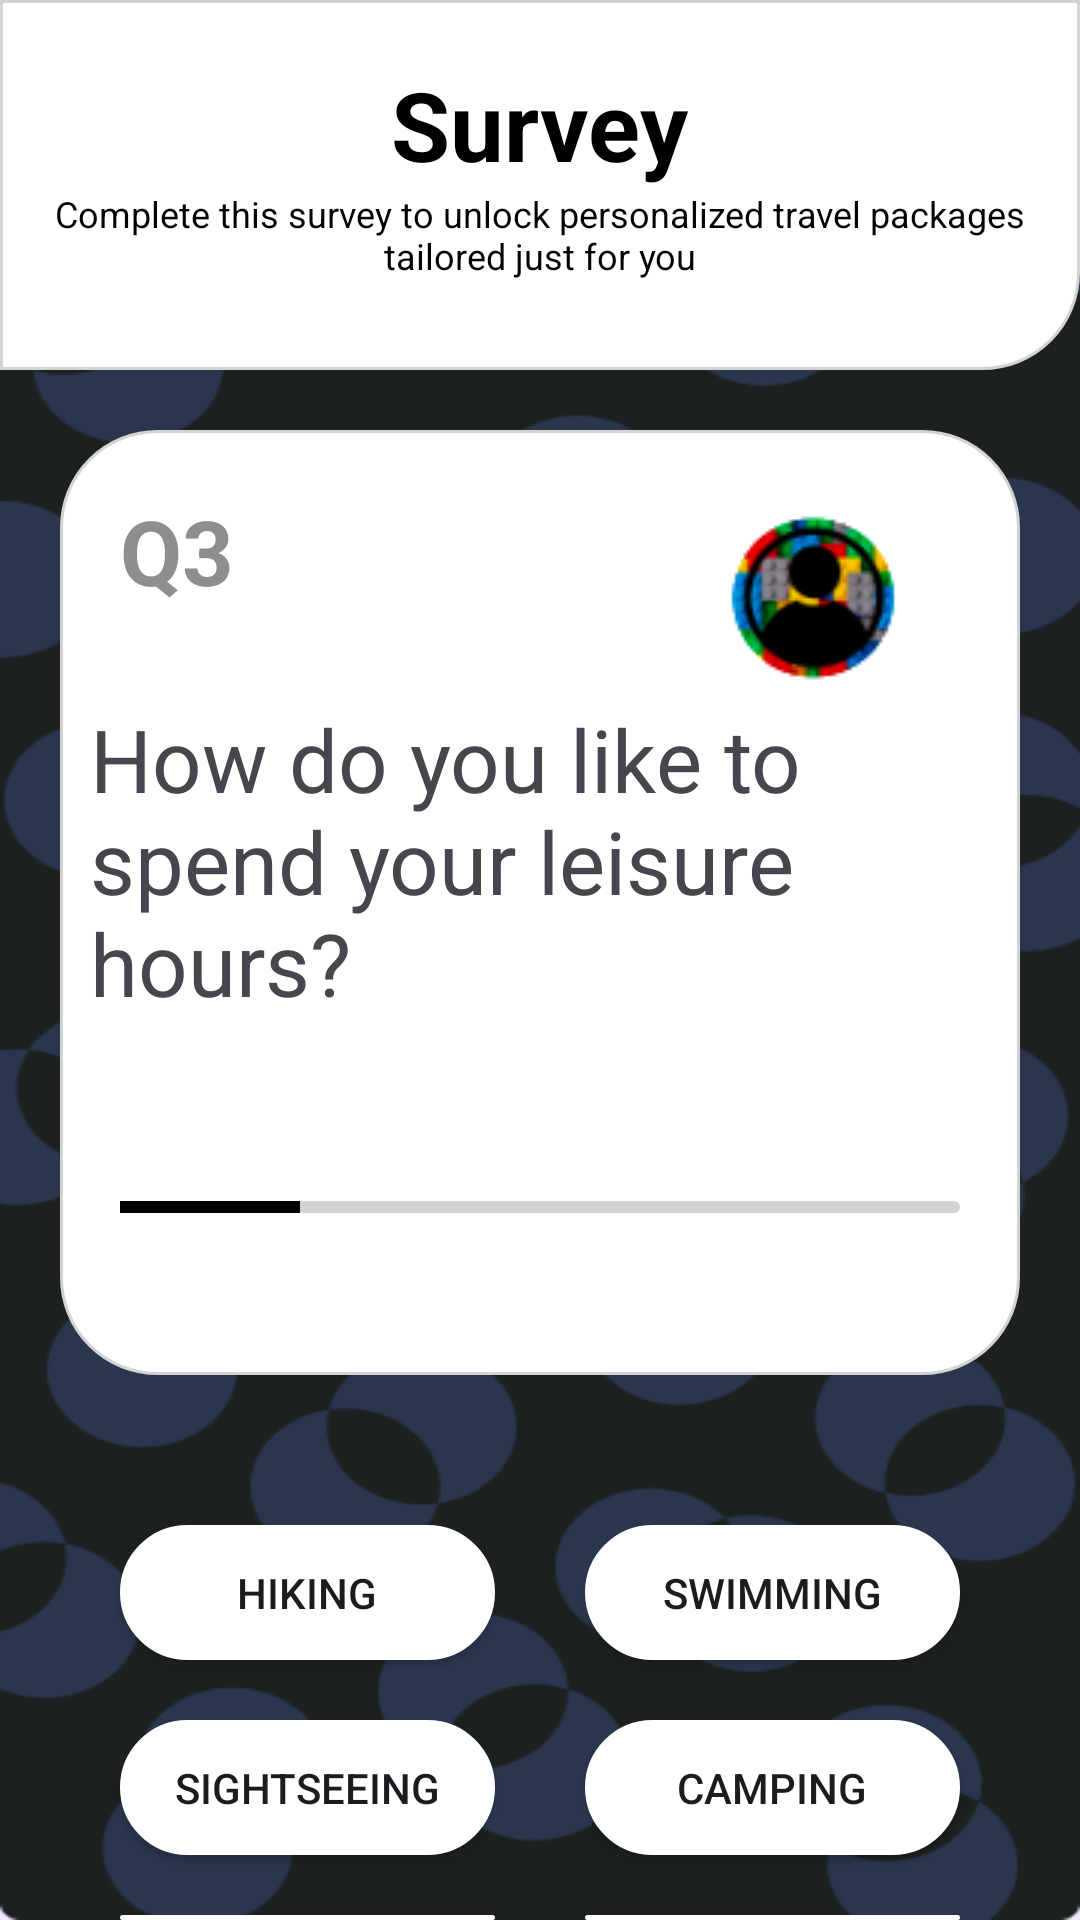

Icon bounding boxes for this 1080×1920 phone screenshot, format (x1, y1, x2, y2):
person: (731, 516, 895, 680)
